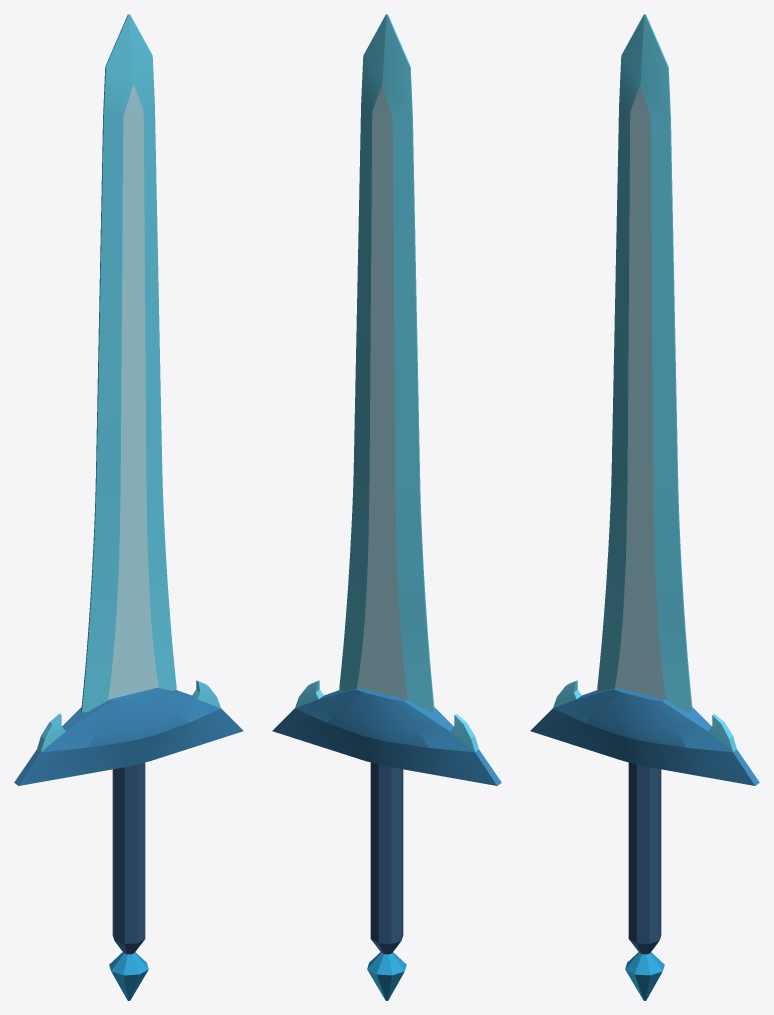
The model's file is one_handed_sword_7.fbx.
3 views of the same model, side by side, from view 1: azimuth 30°, elevation 25°; view 2: azimuth 150°, elevation 25°; view 3: azimuth 330°, elevation 25° (orthographic).
Parts seen in each view (by area): view 1: one_handed_sword_7; view 2: one_handed_sword_7; view 3: one_handed_sword_7.
Boxes of the visible parts, x1,y1,x2,y2 form: one_handed_sword_7: [14, 14, 243, 1000]; one_handed_sword_7: [272, 14, 501, 1000]; one_handed_sword_7: [530, 14, 759, 1000].
Bounding box in the file's own units: 0.3058 × 1.28 × 0.0621.
1 material, 1 textured.
